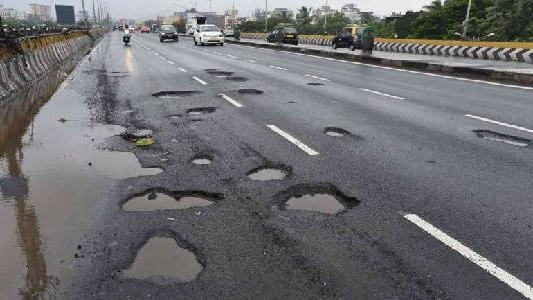pothole: (111, 226, 206, 283), (117, 185, 225, 213), (273, 181, 359, 215), (100, 146, 166, 177), (472, 126, 532, 148), (244, 159, 291, 180), (203, 64, 249, 83), (151, 87, 200, 98), (323, 125, 351, 139), (237, 85, 265, 96), (183, 106, 212, 116), (187, 153, 212, 164)
